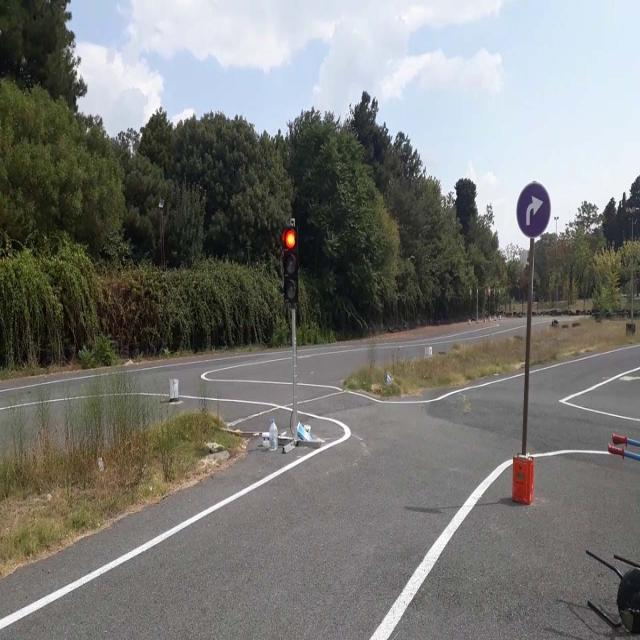kirmizi: (283, 227, 298, 305)
sag: (517, 184, 549, 237)
